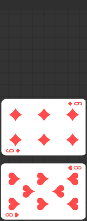6D: (66, 101, 82, 108)
8H: (4, 212, 20, 219)
